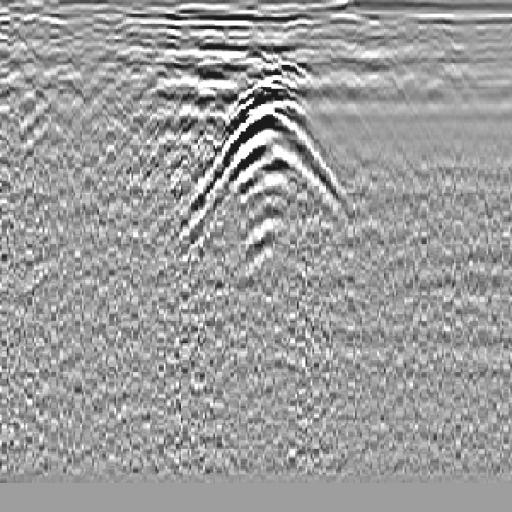metalic: (161, 48, 372, 262)
